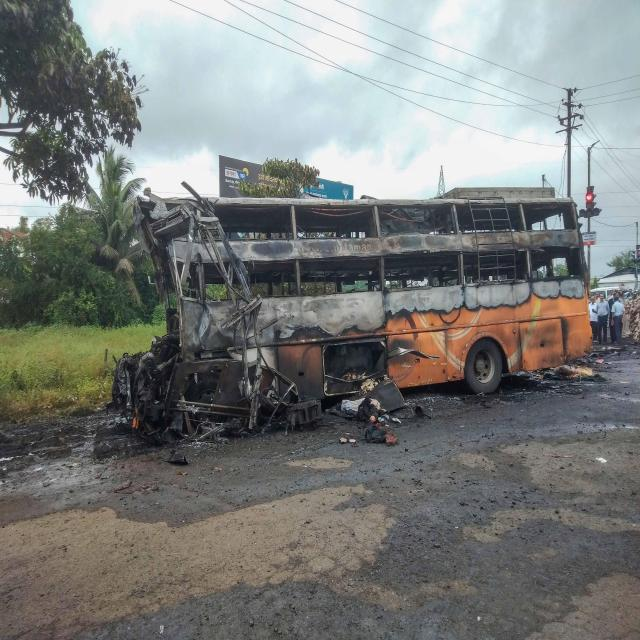accident: (112, 188, 591, 433)
